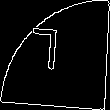L_S: (38, 28, 72, 82)
